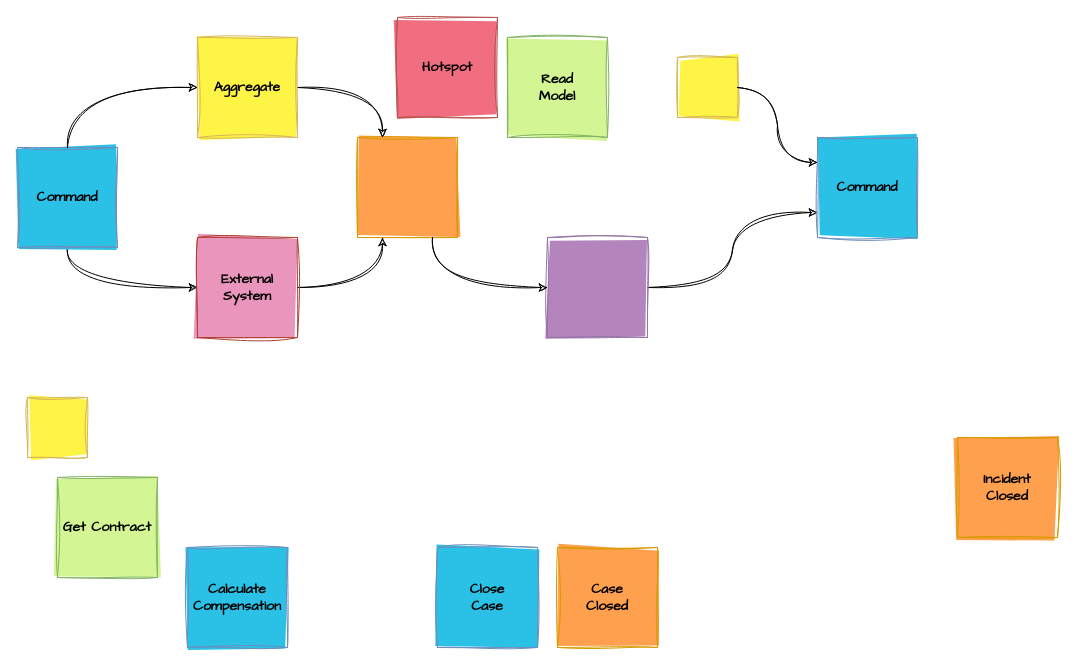
This 1075x665 diagram has some shape labels left out. The centre of each missing label's shape, as x and y in pixels:
"Actor" belongs at point 707,87.
"Domain Event" belongs at point 407,187.
"Insurer" belongs at point 57,427.
"Policy" belongs at point 597,287.
